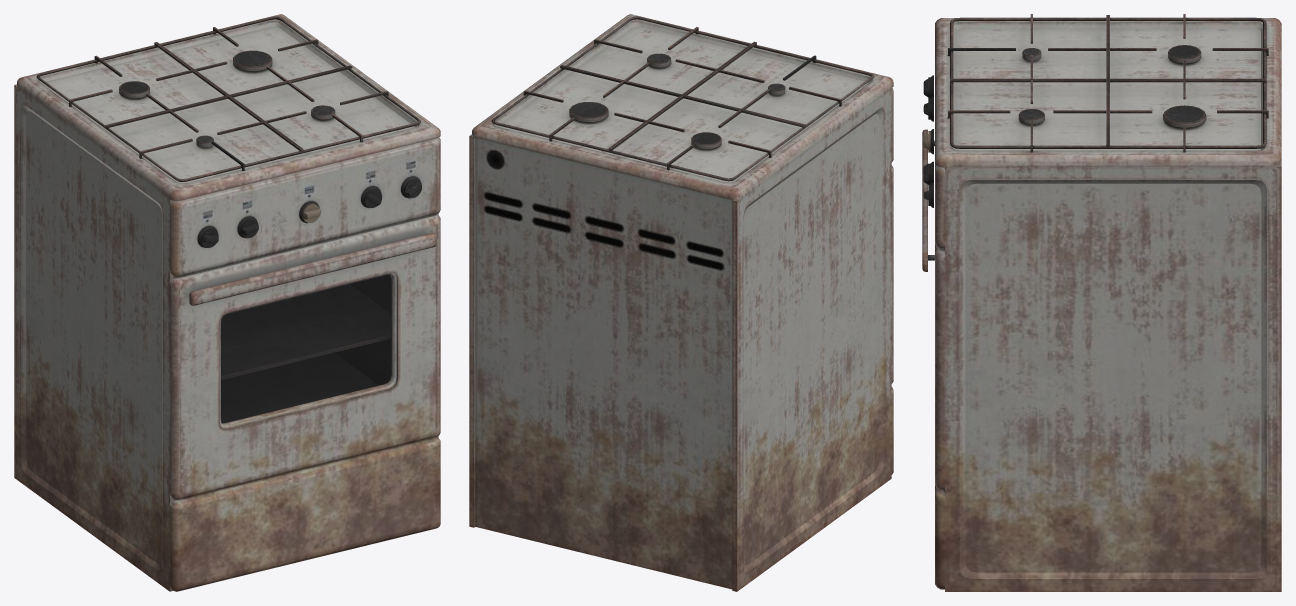
Rendered from kitchen_stove.glb.
The picture shows the model from 3 angles, left to right: view 1: azimuth 30°, elevation 25°; view 2: azimuth 150°, elevation 25°; view 3: azimuth 270°, elevation 25°; orthographic projection. The views are drawn at different scales.
Parts seen in each view (by area): view 1: GasStove, Glass; view 2: GasStove; view 3: GasStove.
Part boxes in pixels (x1,y1,x2,y2): GasStove: (14, 14, 440, 591); Glass: (221, 275, 390, 423); GasStove: (469, 14, 893, 591); GasStove: (922, 14, 1281, 591).
Bounding box in the file's own units: 70 × 101 × 74.81.
2 materials, 2 textured.
